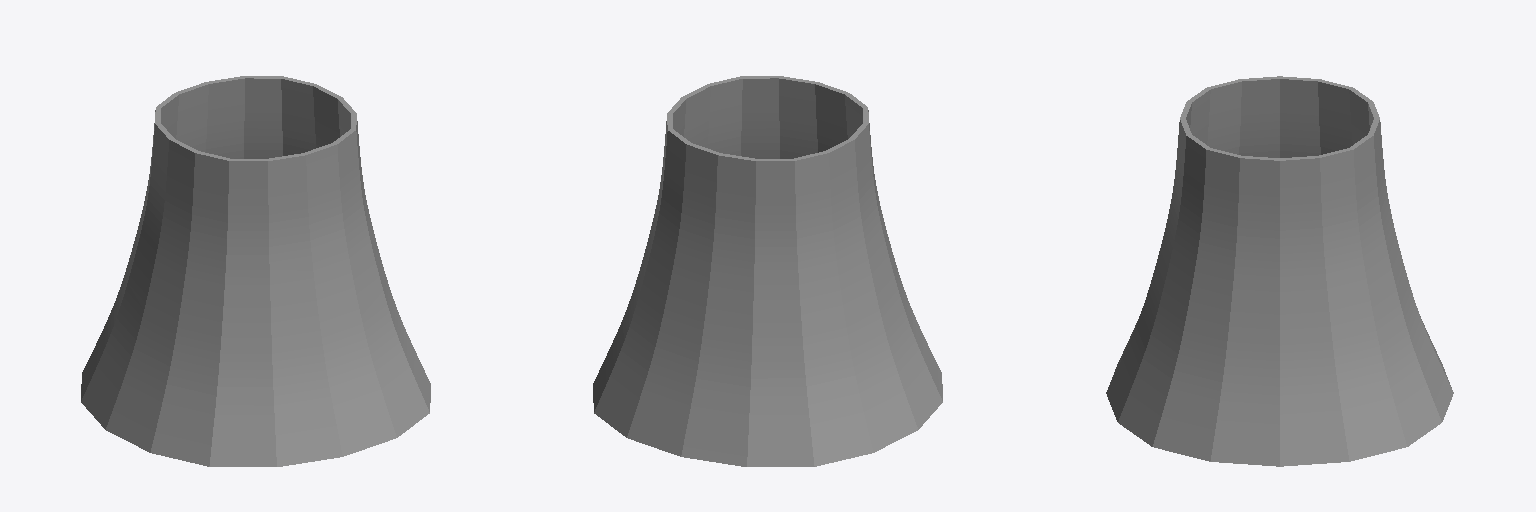
The model's file is bedside_lamp_shade.obj.
3 renders of one model, left to right at view 1: azimuth 30°, elevation 25°; view 2: azimuth 150°, elevation 25°; view 3: azimuth 270°, elevation 25°, orthographic.
Visible parts, largest first — view 1: Cube.010_Cube.011; view 2: Cube.010_Cube.011; view 3: Cube.010_Cube.011.
Boxes of the visible parts, x1=… form: Cube.010_Cube.011: x1=81, y1=76, x2=430, y2=466; Cube.010_Cube.011: x1=593, y1=76, x2=942, y2=466; Cube.010_Cube.011: x1=1106, y1=76, x2=1453, y2=466.
Size of the model in its own units: 0.171 by 0.1492 by 0.1712.